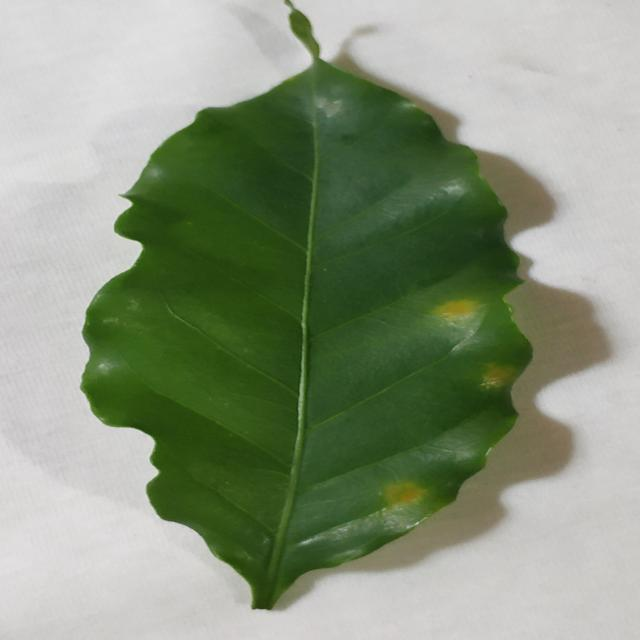Enfermedad-Roya: (79, 5, 534, 613)
